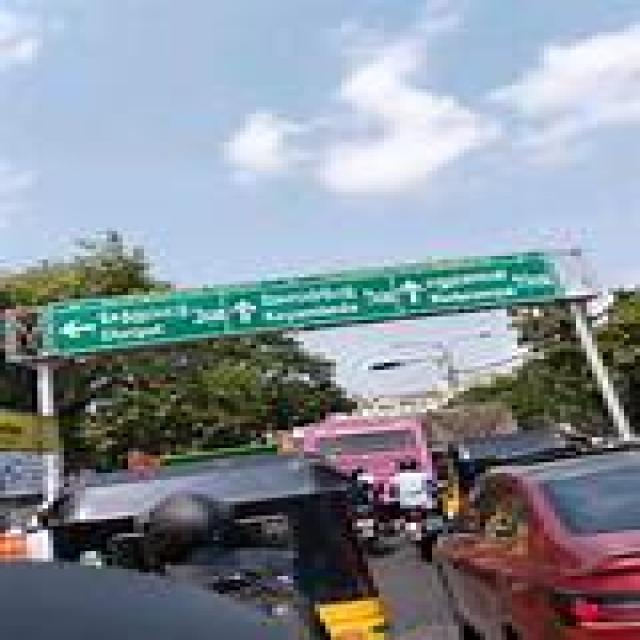Auto: (61, 461, 388, 639)
Car: (433, 454, 639, 639)
